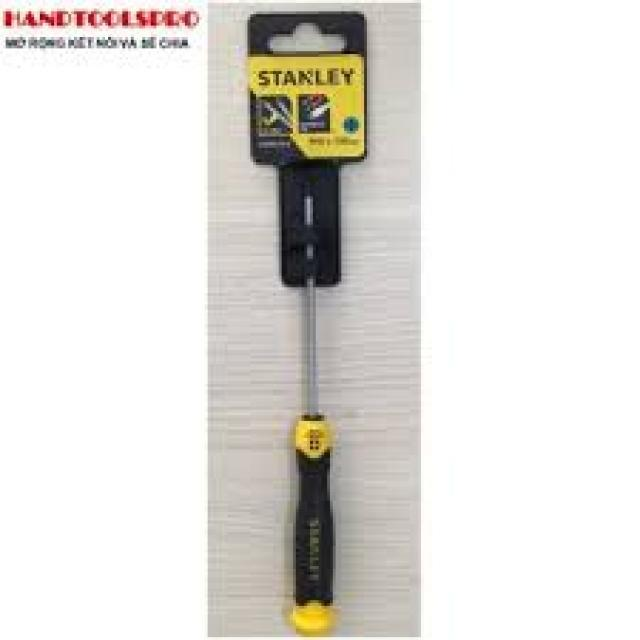screwdriver: (284, 164, 338, 638)
